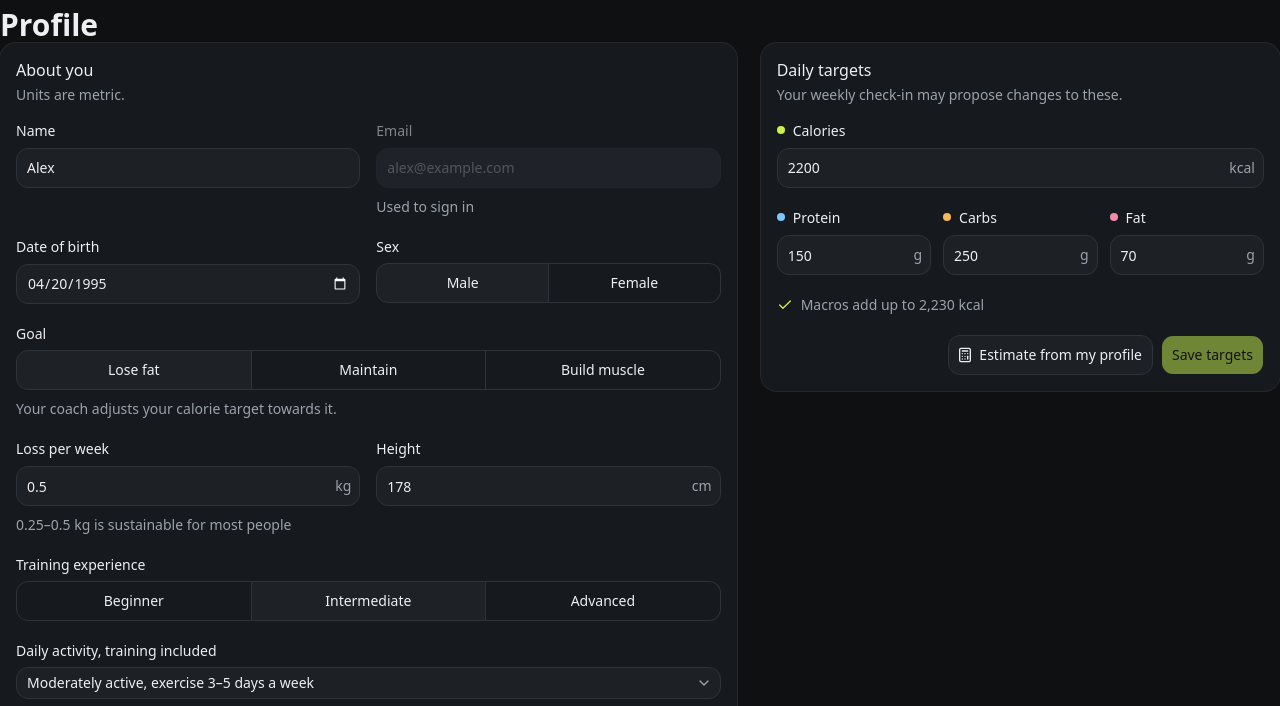
Test: ProfilePage › refuses an out-of-range height
Replace the text in the field labelled "Height" with "50": (535, 486) [377,470,692,502]
(page scrolled)
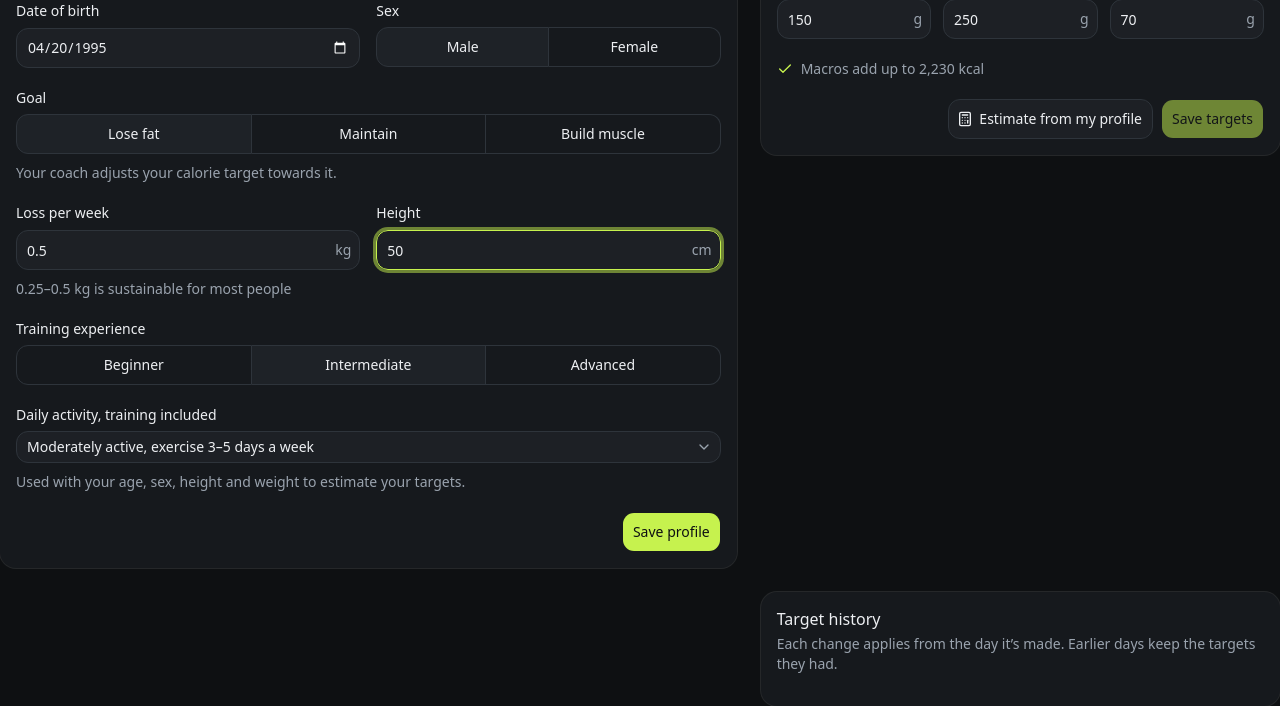
Click the button "Save profile": (671, 532) [622,512,721,552]
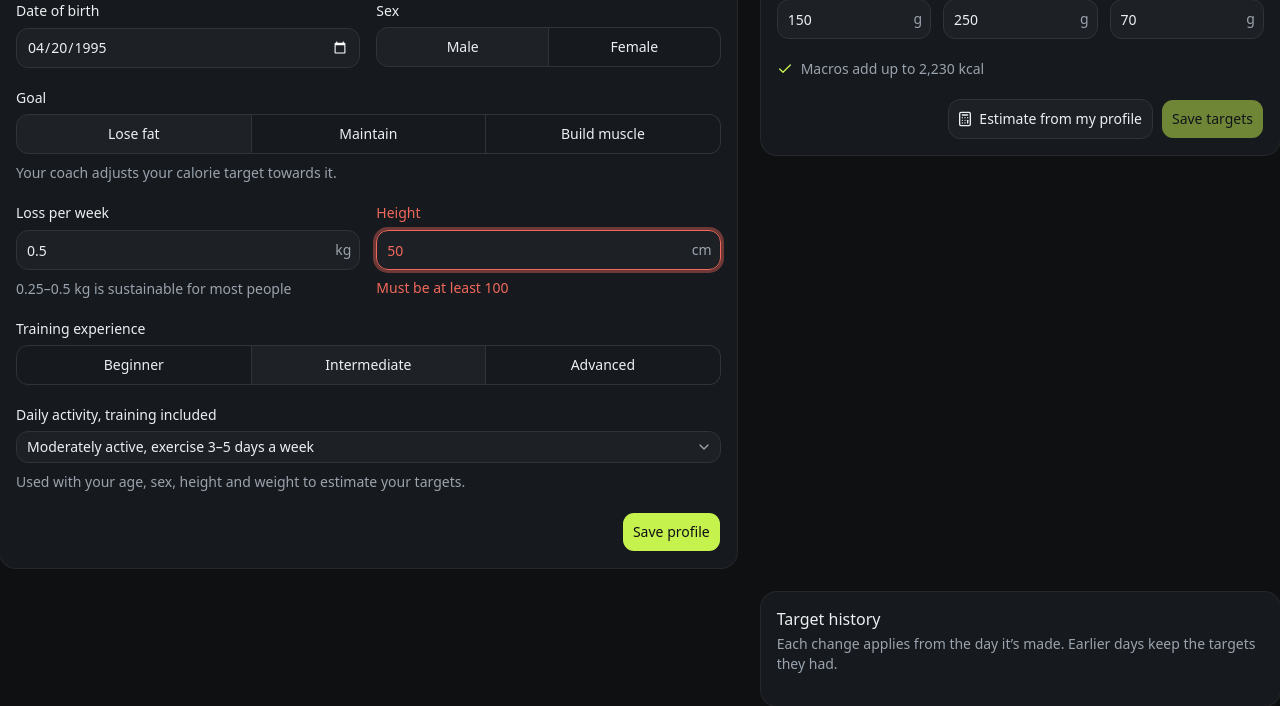
Now the text "Must be at least 100" is shown, box [376,278,508,297]
